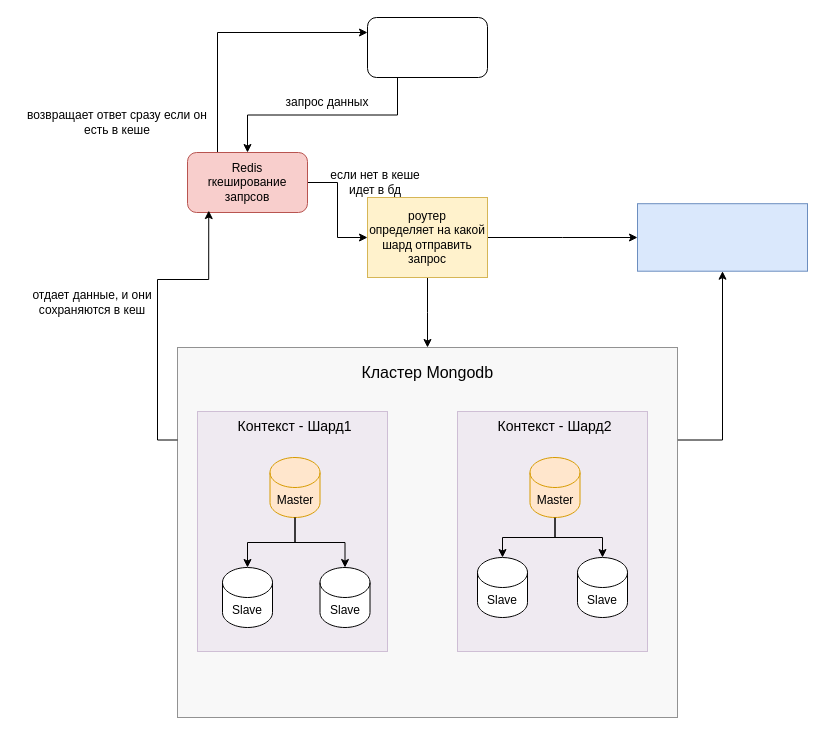
Image size: 825x735. Some labels were removed from this diagram. The centre of each missing label's shape, as x and y in pixels:
"pymongo-api" belongs at pixel 427 47.
"сервис конфигурации хранит методанные о том где какие данные находятся" belongs at pixel 722 237.
